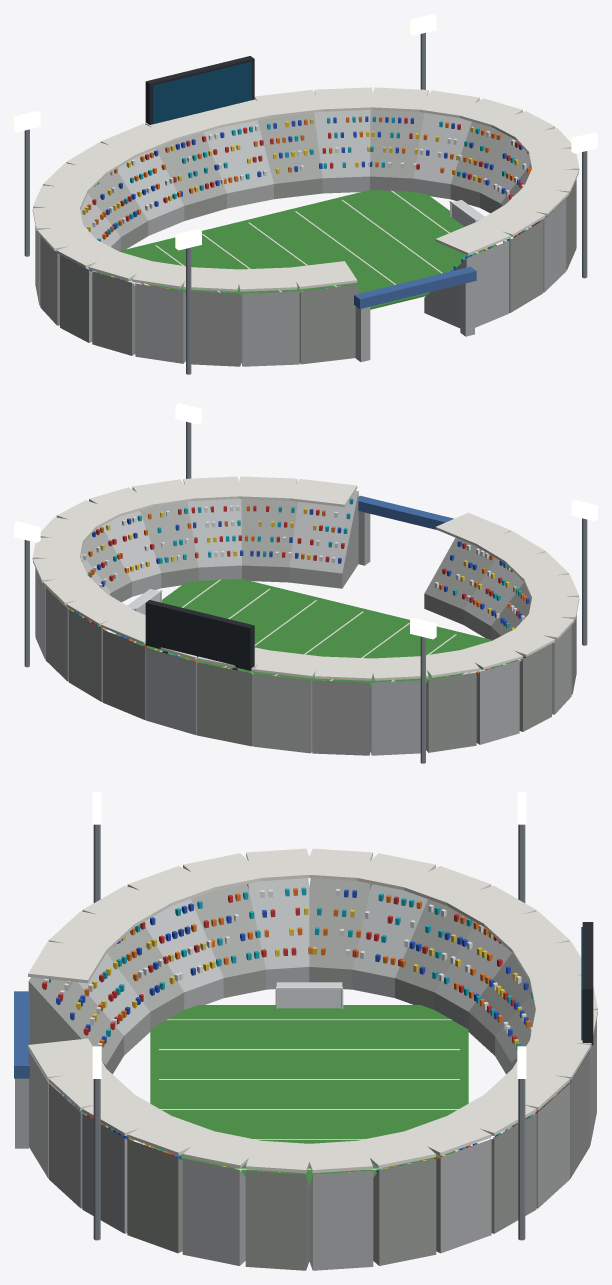
Rendered from stadium.glb.
3 views of the same model, one above another, from view 1: azimuth 30°, elevation 25°; view 2: azimuth 150°, elevation 25°; view 3: azimuth 270°, elevation 25° (orthographic). The views are drawn at different scales.
Visible parts, largest first — view 1: Cube.001; view 2: Cube.001; view 3: Cube.001.
Boxes of the visible parts, x1,y1,x2,y2 form: Cube.001: (14, 14, 597, 374); Cube.001: (14, 403, 597, 763); Cube.001: (14, 792, 597, 1270).
Size of the model in its own units: 86.01 by 23.1 by 66.02.
